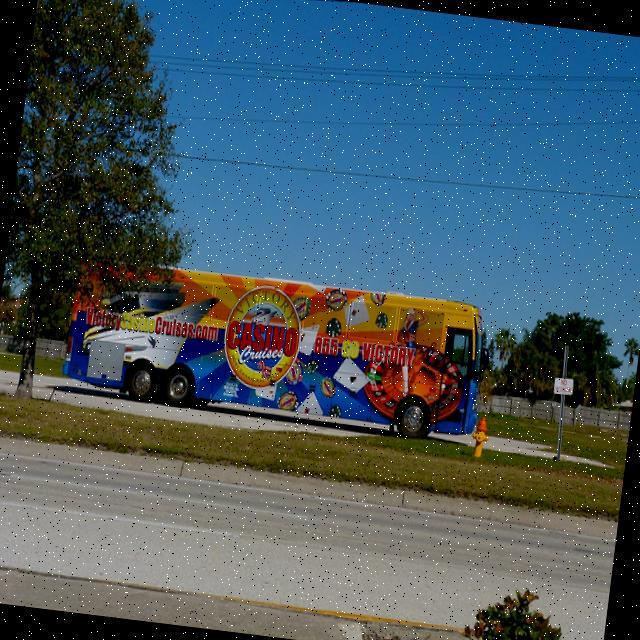fire_hydrant: (468, 414, 490, 458)
